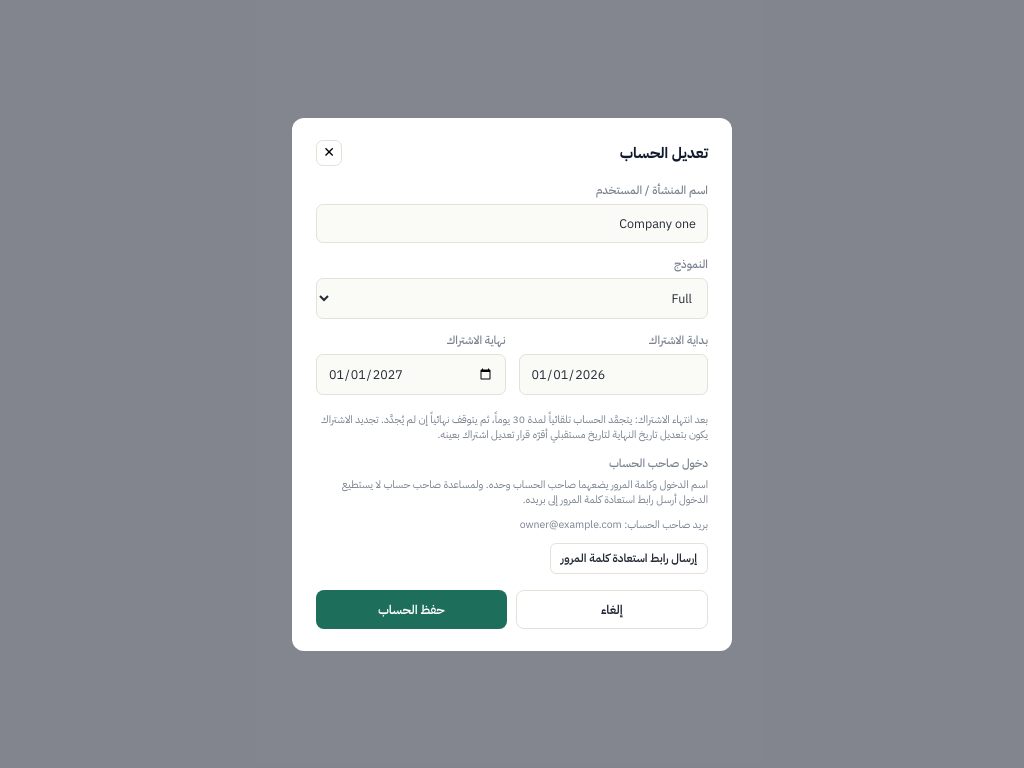
Scenario: The platform company form and the owner sign-in details › sends a reset link to the owner from the company view and says where it went
Click the button "إرسال رابط استعادة كلمة المرور" at (629, 558), box [550,542,708,574]
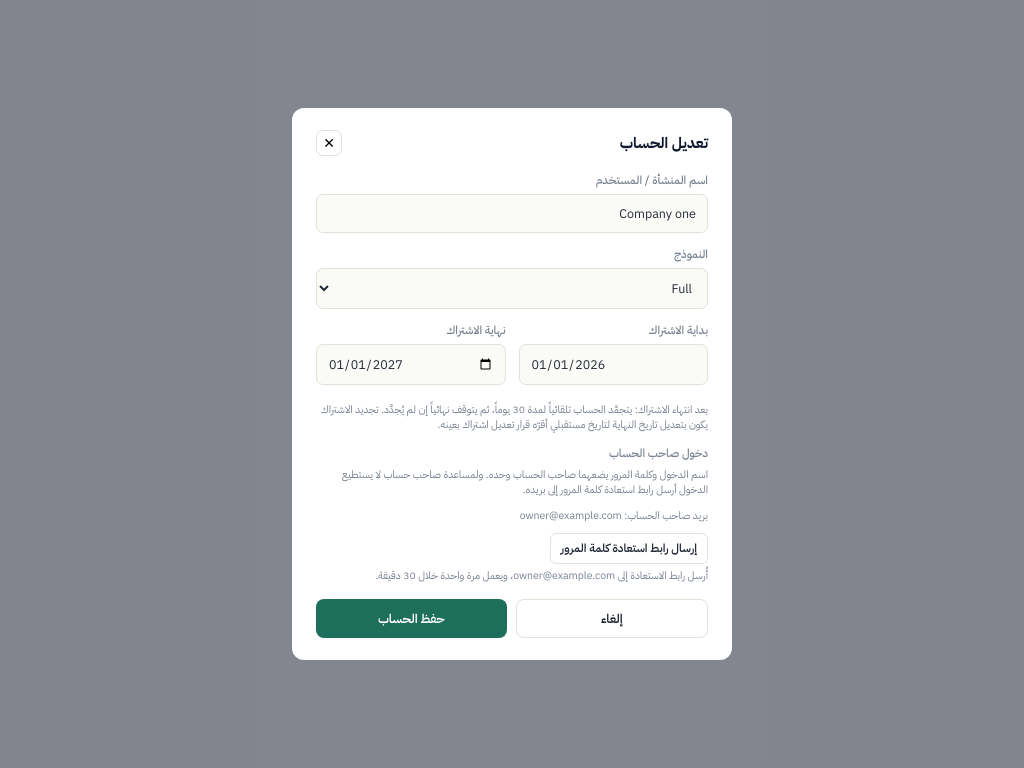
Check: the text "أُرسل رابط الاستعادة إلى owner@example.com" is shown, box [375,568,708,583]
